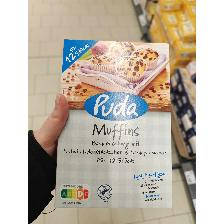Kuchen: (53, 38, 176, 210)
